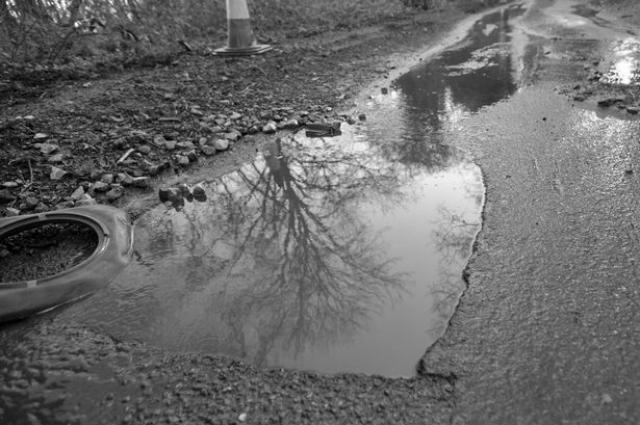Pothole: (36, 0, 640, 418)
